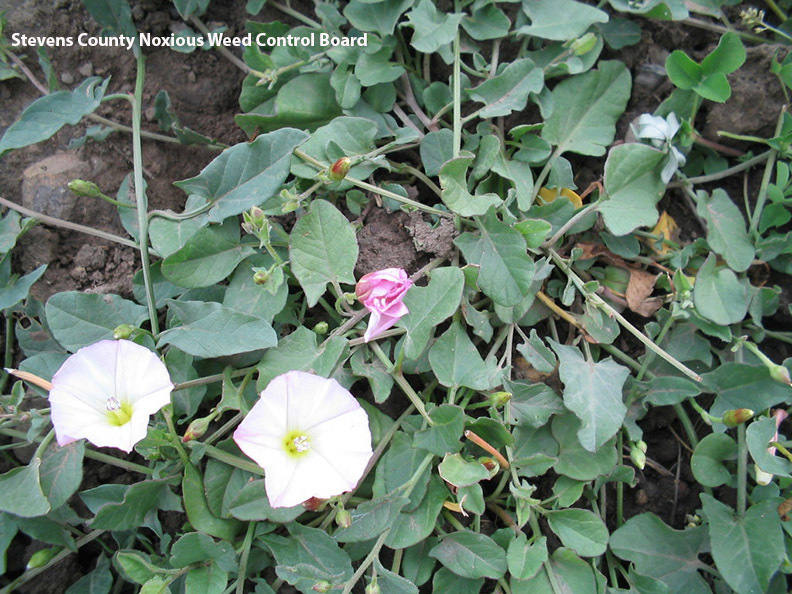bindweed: (227, 365, 378, 514), (46, 337, 177, 457)
